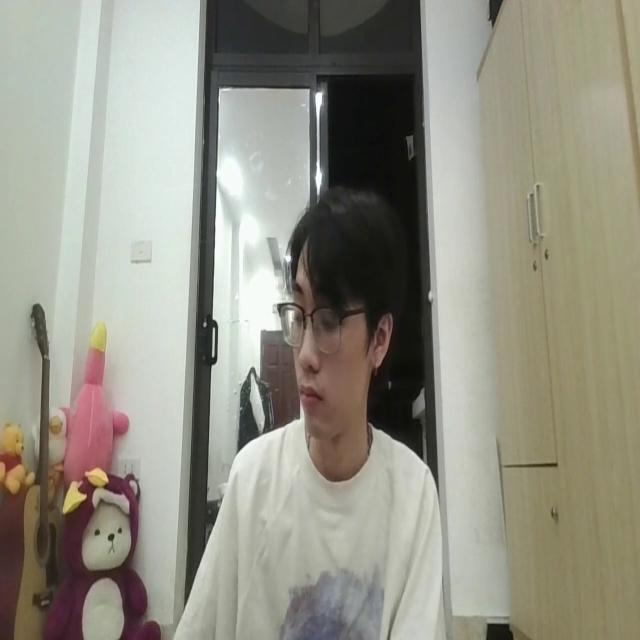student: (158, 184, 442, 640)
